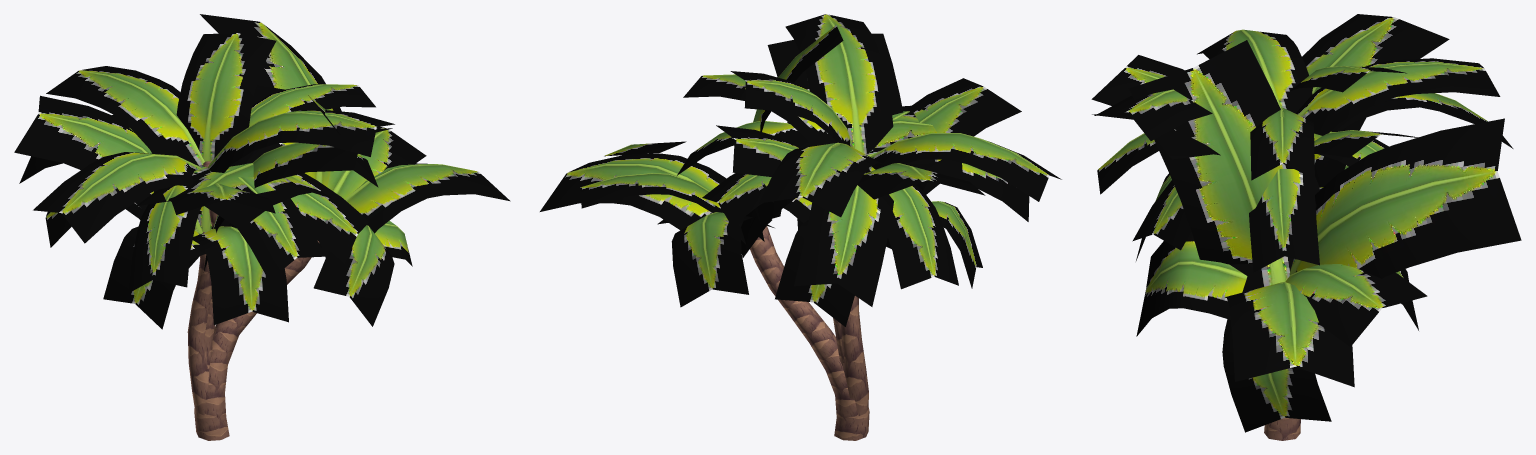
File: palms.glb
3 views of the same model, side by side, from view 1: azimuth 30°, elevation 25°; view 2: azimuth 150°, elevation 25°; view 3: azimuth 270°, elevation 25° (orthographic). The views are drawn at different scales.
Parts seen in each view (by area): view 1: PalmTree_1_Cube.003, PalmTree_2_Cube.007, PalmTree_3_Cube.006; view 2: PalmTree_1_Cube.003, PalmTree_2_Cube.007, PalmTree_3_Cube.006; view 3: PalmTree_2_Cube.007, PalmTree_1_Cube.003, PalmTree_3_Cube.006.
Part boxes in pixels (<box>): PalmTree_1_Cube.003: <box>19,33,394,368</box>; PalmTree_2_Cube.007: <box>136,14,510,440</box>; PalmTree_3_Cube.006: <box>14,85,392,415</box>; PalmTree_1_Cube.003: <box>677,14,1061,366</box>; PalmTree_2_Cube.007: <box>540,25,962,440</box>; PalmTree_3_Cube.006: <box>716,33,1021,415</box>; PalmTree_2_Cube.007: <box>1129,40,1521,440</box>; PalmTree_1_Cube.003: <box>1094,29,1513,272</box>; PalmTree_3_Cube.006: <box>1091,14,1449,260</box>.
Size of the model in its own units: 6.92 by 5.28 by 5.07.
2 materials, 2 textured.
